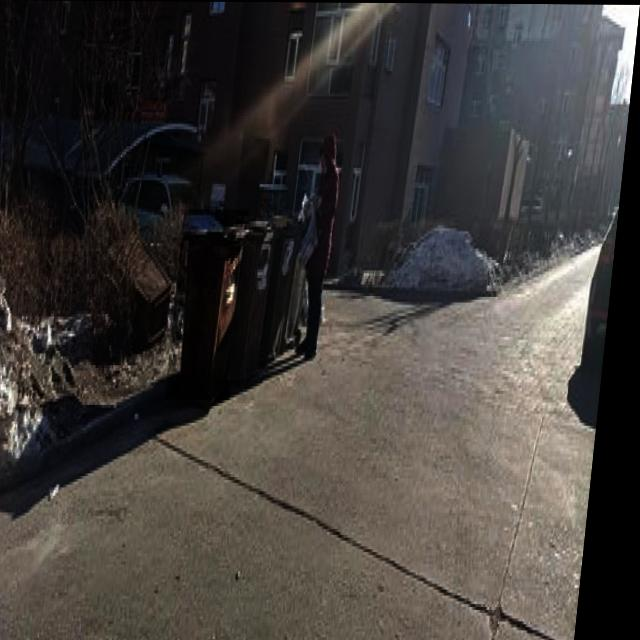garbage_bin: (173, 209, 254, 400), (235, 215, 283, 380), (265, 209, 310, 360)
